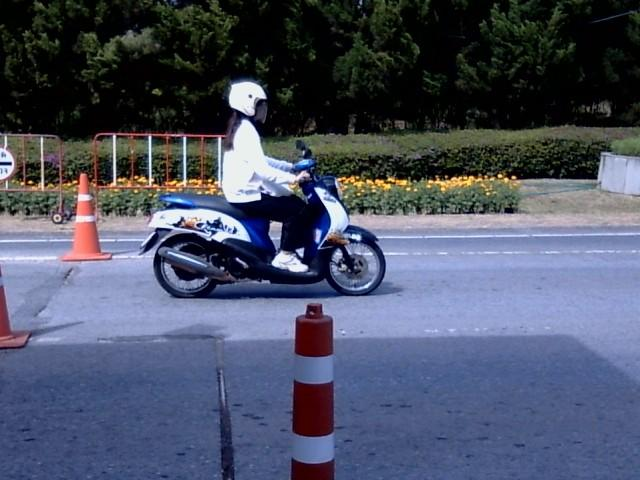helmet: (227, 77, 267, 124)
motor: (139, 140, 385, 297)
person: (222, 81, 308, 271)
